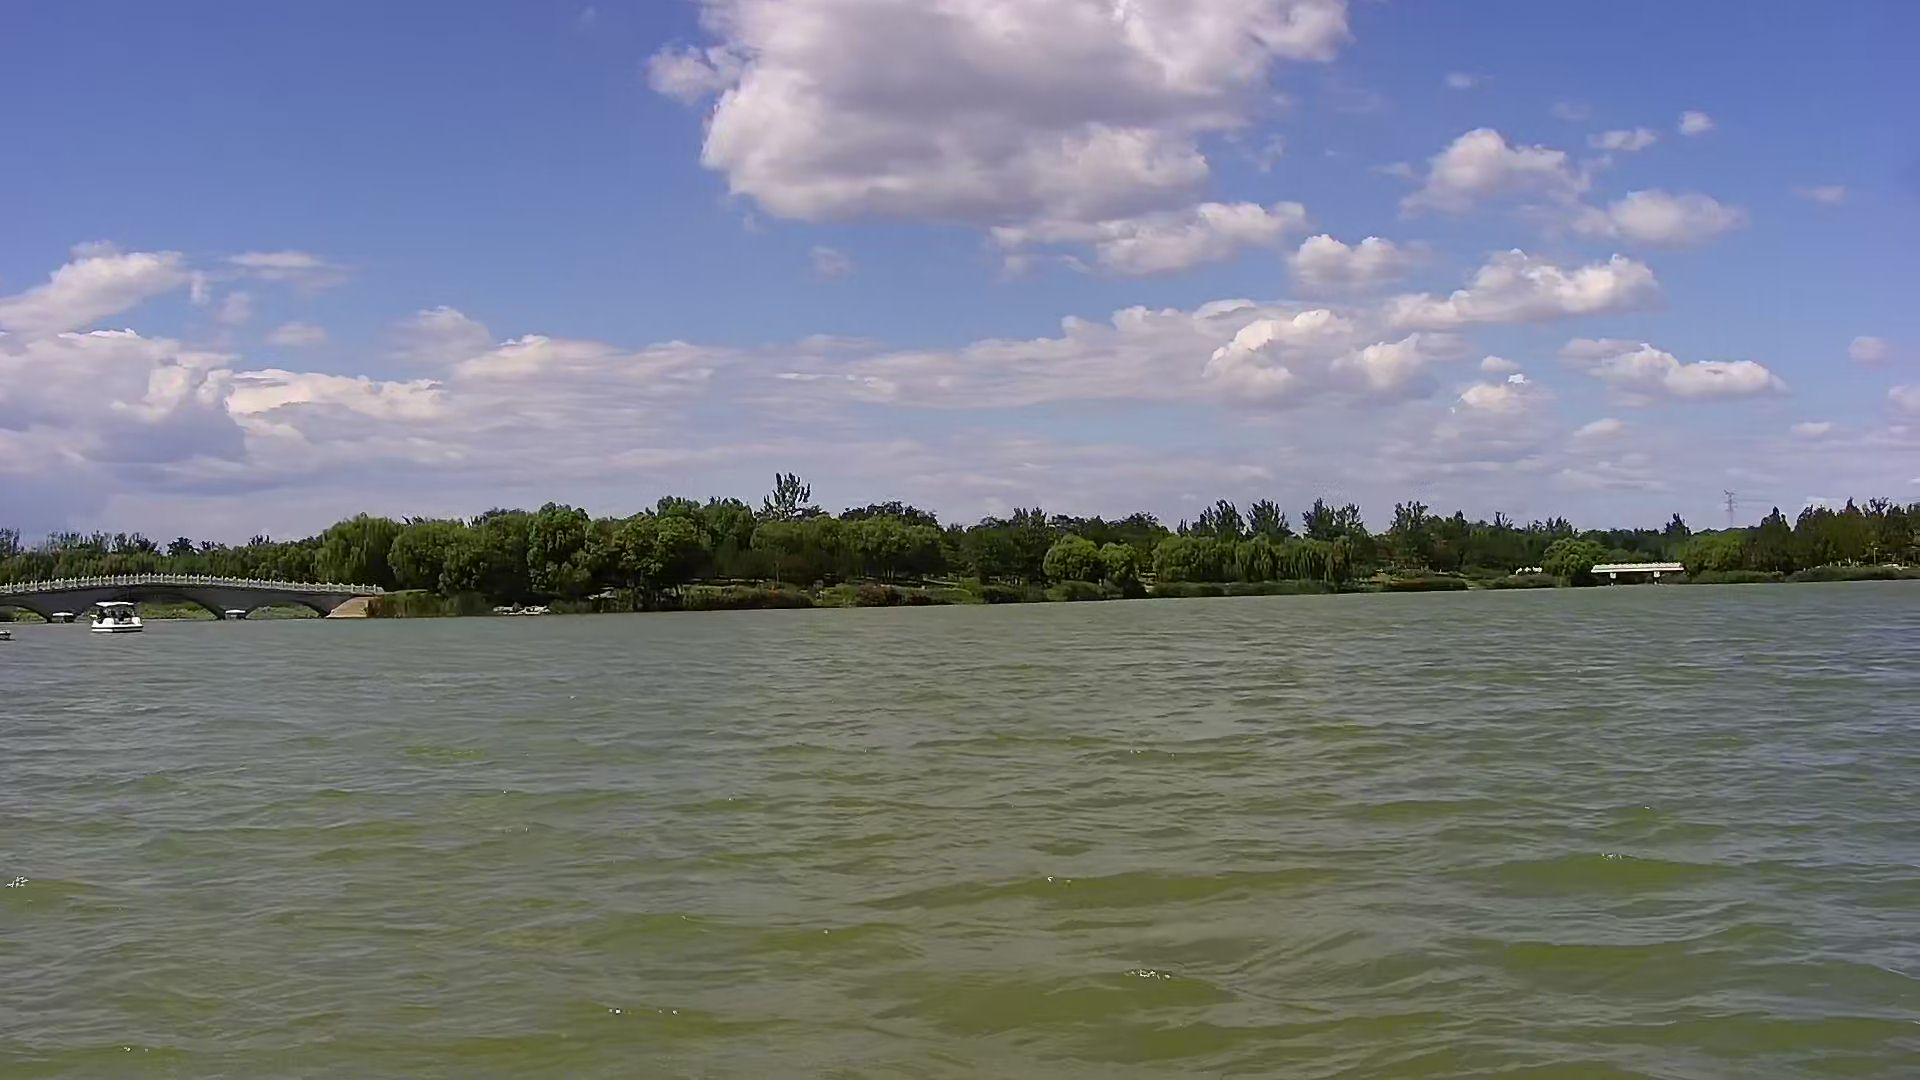boat: (87, 597, 152, 646)
bridge: (7, 564, 392, 626)
